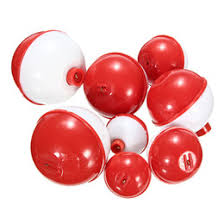buoy: (30, 109, 107, 192), (12, 30, 86, 105), (147, 67, 213, 135), (84, 52, 148, 118), (149, 127, 203, 186), (137, 34, 185, 84), (104, 152, 151, 198), (108, 113, 148, 155)
